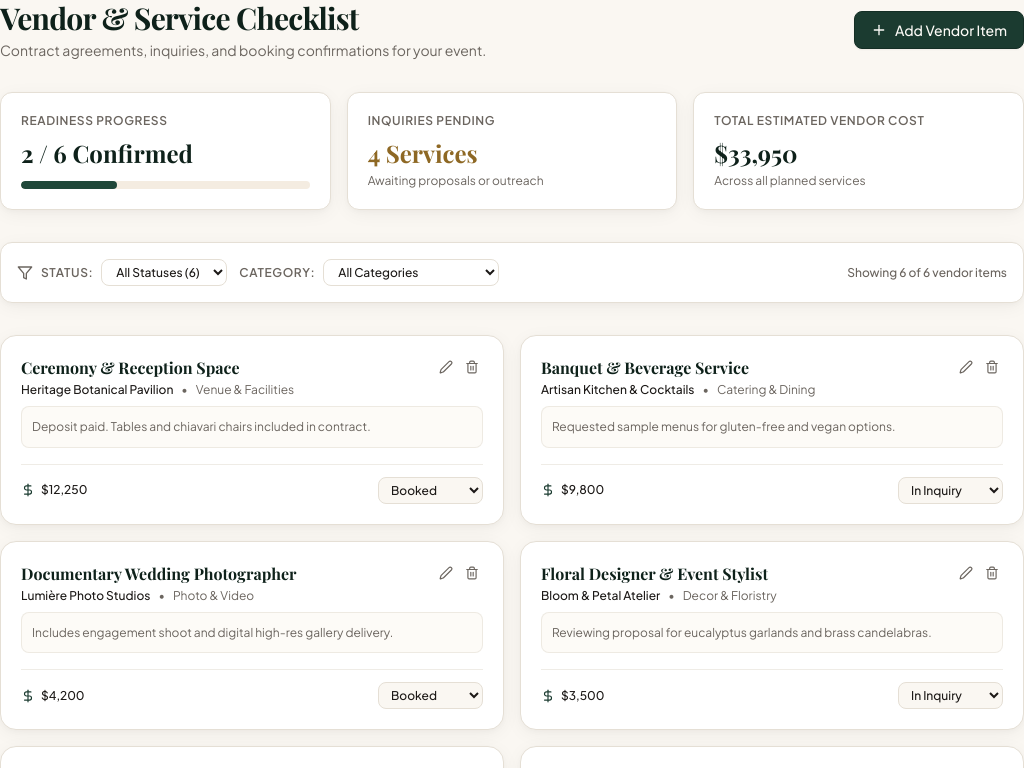
Test case: Gatherly User Interface and Journey Integration Tests › allows adding services in VendorChecklist and updates category filter
Click the button "Add Vendor Item" at (939, 30), box [854,11,1023,49]
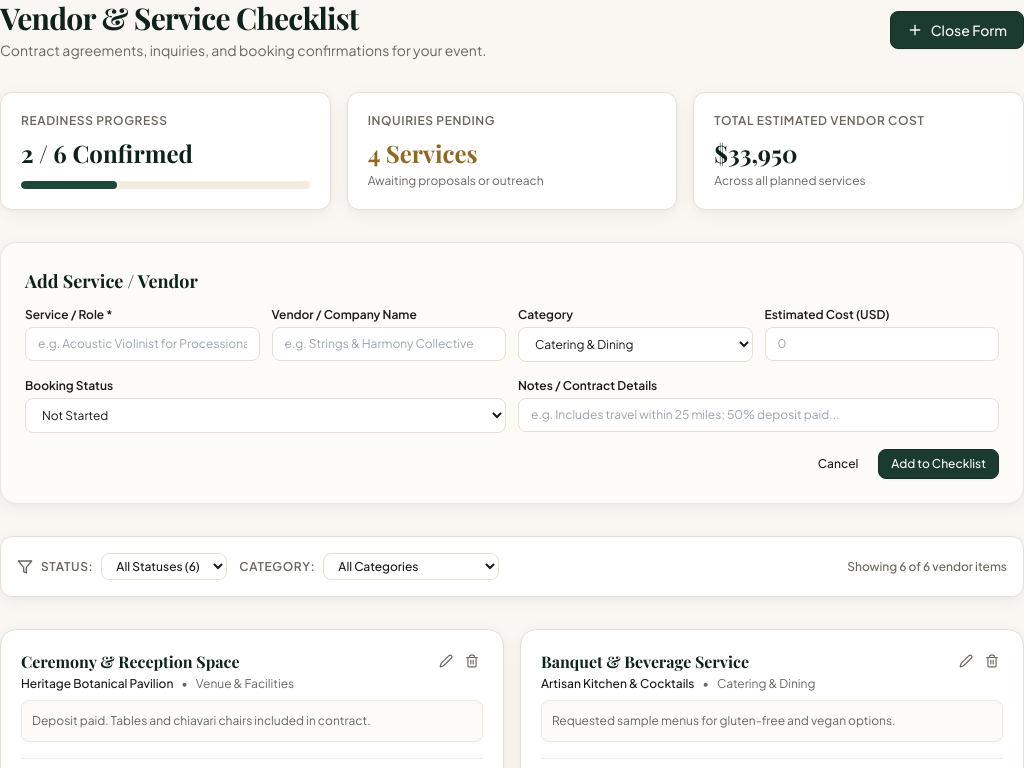
Type "Artisan Espresso Cart" into the field labelled "Service / Role *" at (142, 344), box [25,327,260,361]
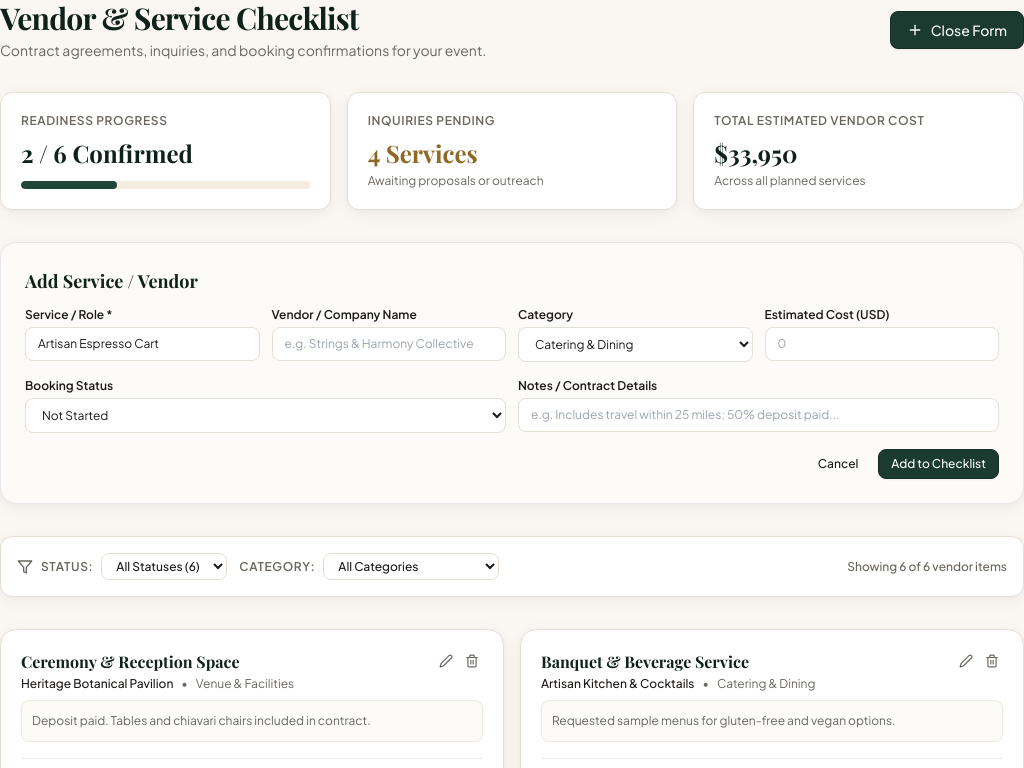
Type "Bean & Bloom" into the field labelled "Vendor / Company Name" at (389, 344), box [272,327,506,361]
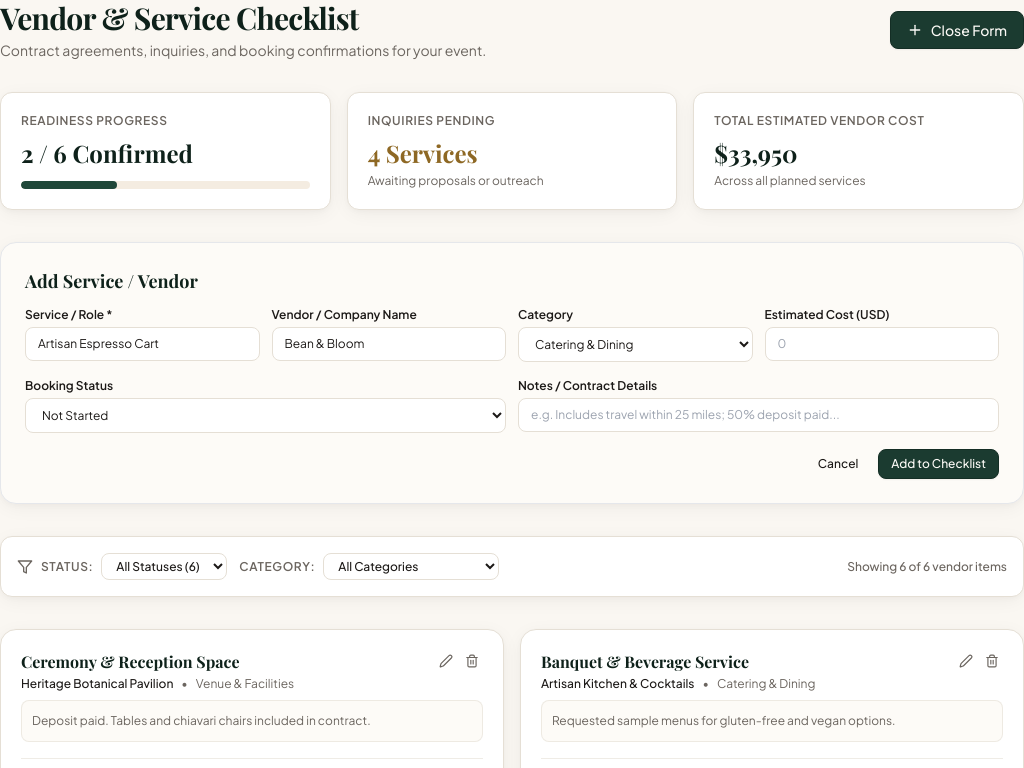
Type "600" into the number field labelled "Estimated Cost (USD)" at (882, 344), box [764,327,999,361]
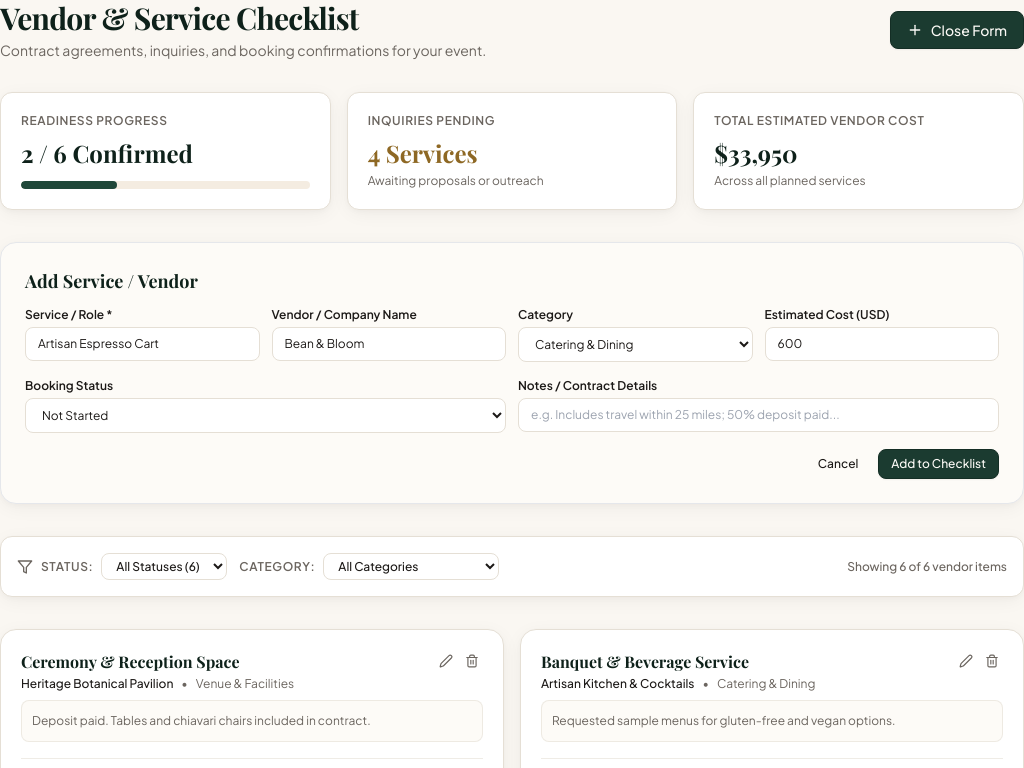
Click the button "Add to Checklist" at (939, 464), box [878,449,999,479]
(page scrolled)
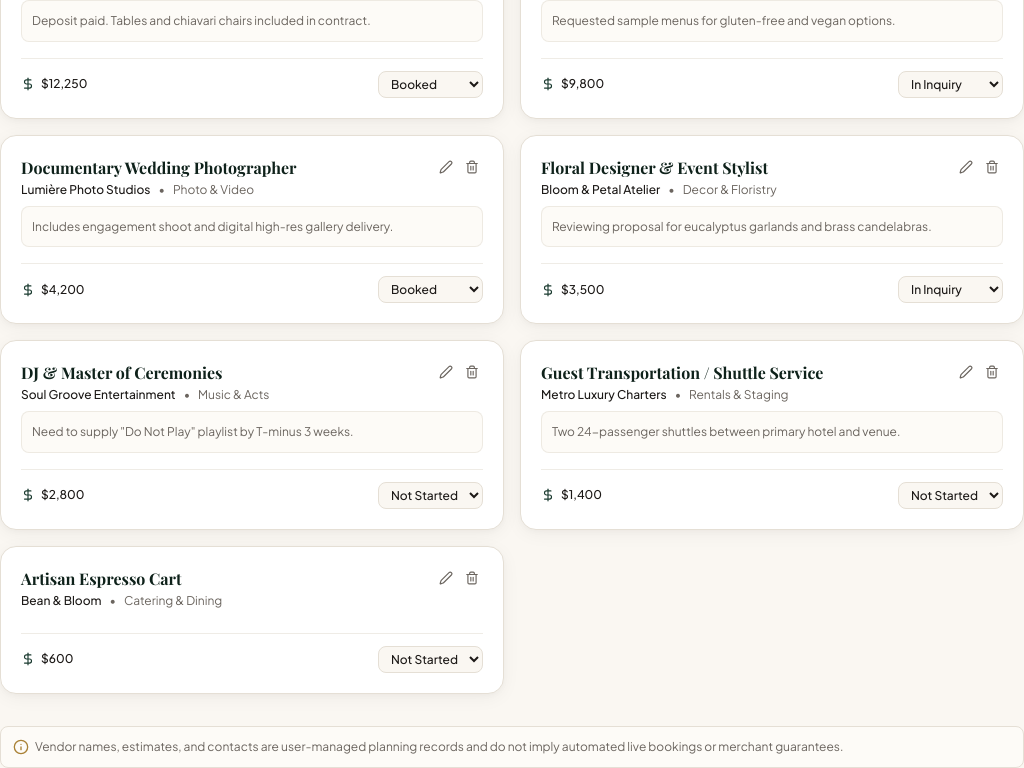
Check: the heading "Artisan Espresso Cart" is shown, box [21,568,182,588]
Check: the text "Bean & Bloom" is shown, box [21,592,102,608]
